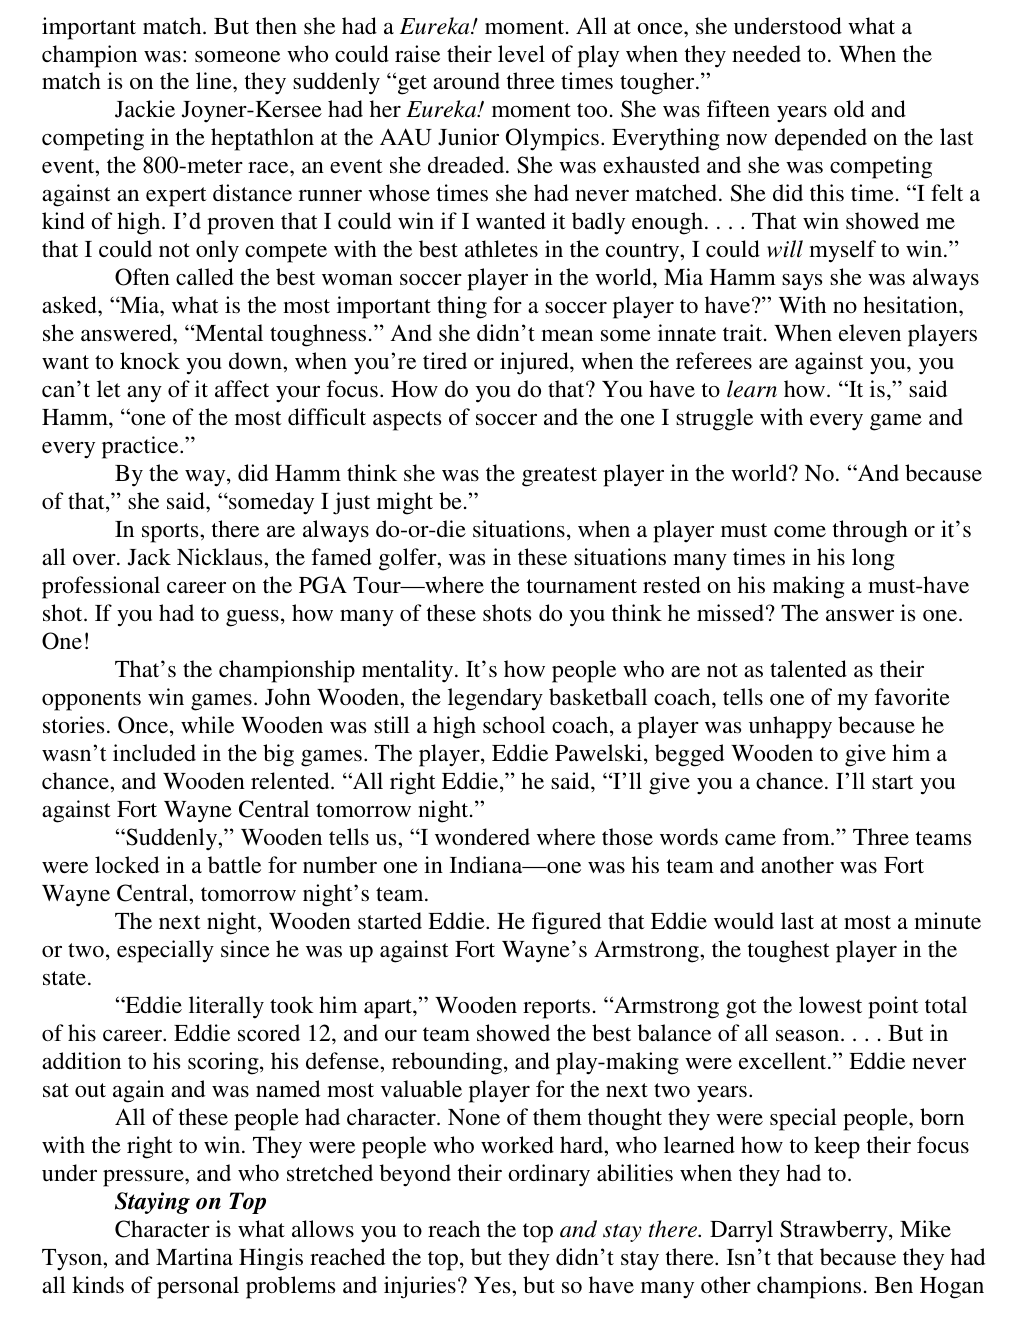latin: (27, 458, 982, 654), (36, 263, 983, 460), (30, 98, 986, 263), (24, 662, 958, 826), (38, 1187, 990, 1299), (38, 993, 975, 1104), (30, 1104, 981, 1187), (29, 909, 985, 986), (38, 14, 932, 95), (36, 826, 979, 900)
